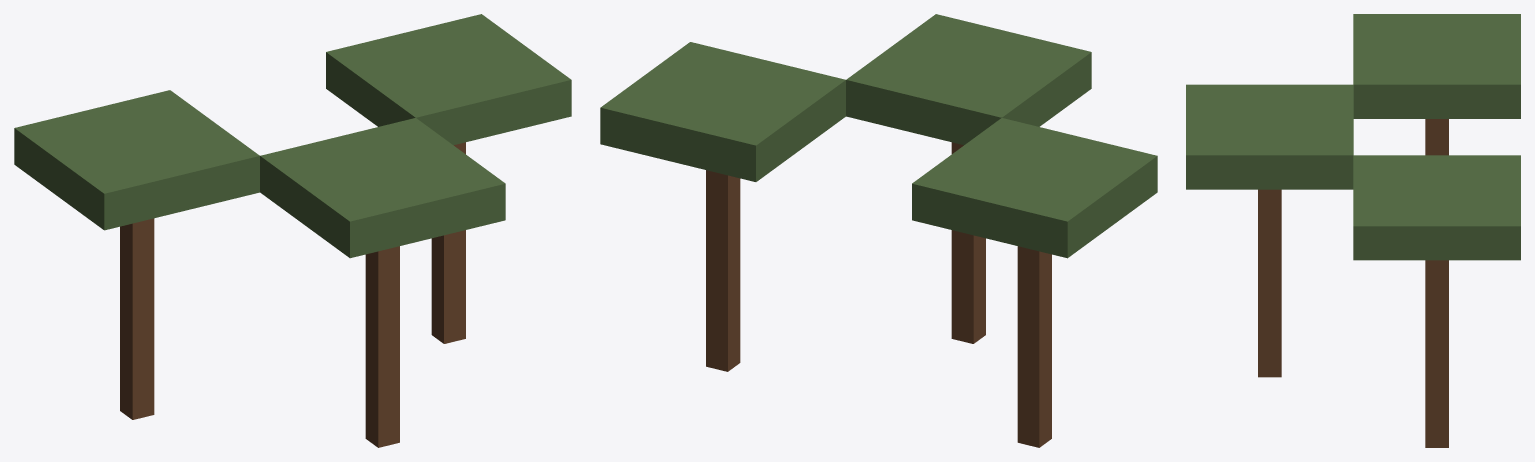
File: Date-palm-grove.glb
3 renders of one model, left to right at view 1: azimuth 30°, elevation 25°; view 2: azimuth 150°, elevation 25°; view 3: azimuth 270°, elevation 25°, orthographic. The views are drawn at different scales.
Visible parts, largest first — view 1: date-palm-grove-static-palm-leaf, date-palm-grove-static-palm-trunk; view 2: date-palm-grove-static-palm-leaf, date-palm-grove-static-palm-trunk; view 3: date-palm-grove-static-palm-leaf, date-palm-grove-static-palm-trunk.
Boxes of the visible parts, x1,y1,x2,y2 form: date-palm-grove-static-palm-leaf: [14, 14, 571, 258]; date-palm-grove-static-palm-trunk: [120, 142, 465, 447]; date-palm-grove-static-palm-leaf: [600, 14, 1157, 258]; date-palm-grove-static-palm-trunk: [706, 142, 1051, 447]; date-palm-grove-static-palm-leaf: [1186, 14, 1520, 260]; date-palm-grove-static-palm-trunk: [1258, 119, 1448, 447].
Bounding box in the file's own units: 6 × 3.33 × 4.
